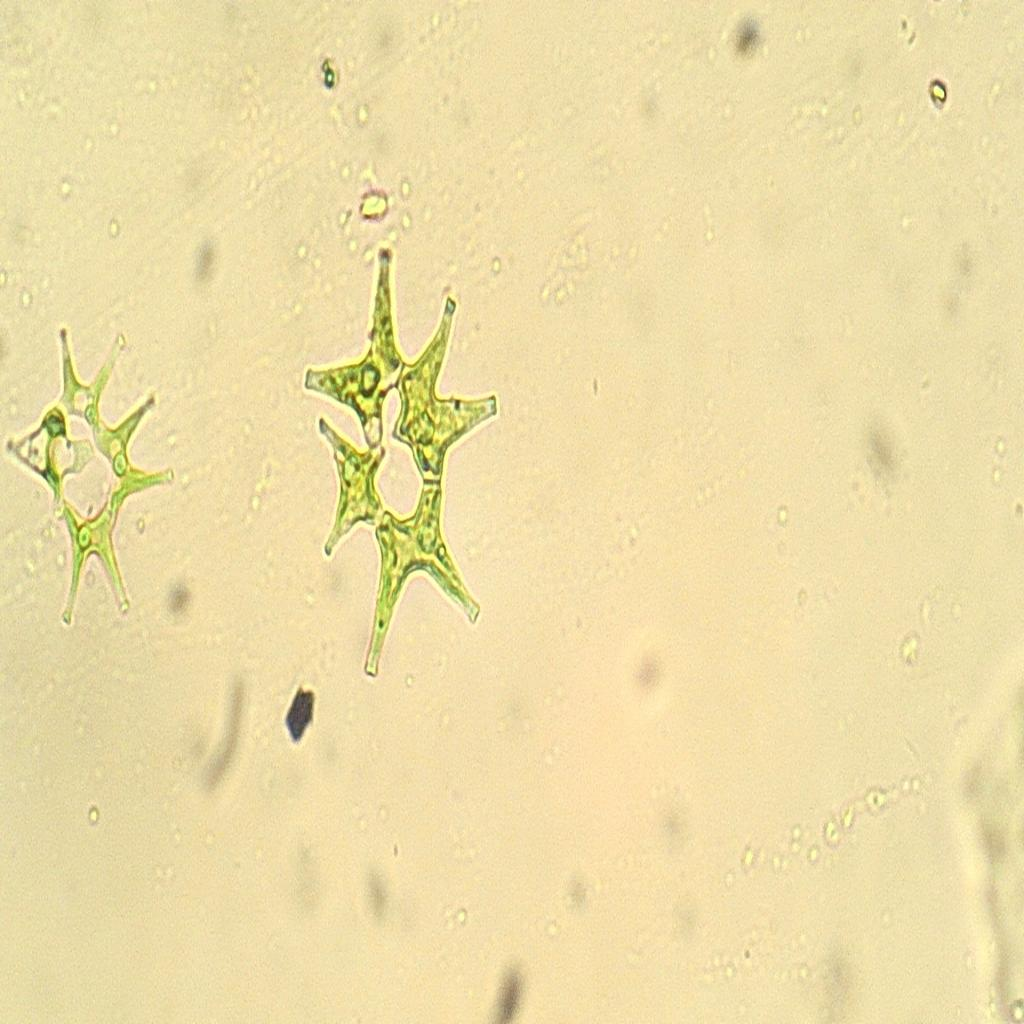Pediastrum_75FO: (296, 233, 503, 684)
